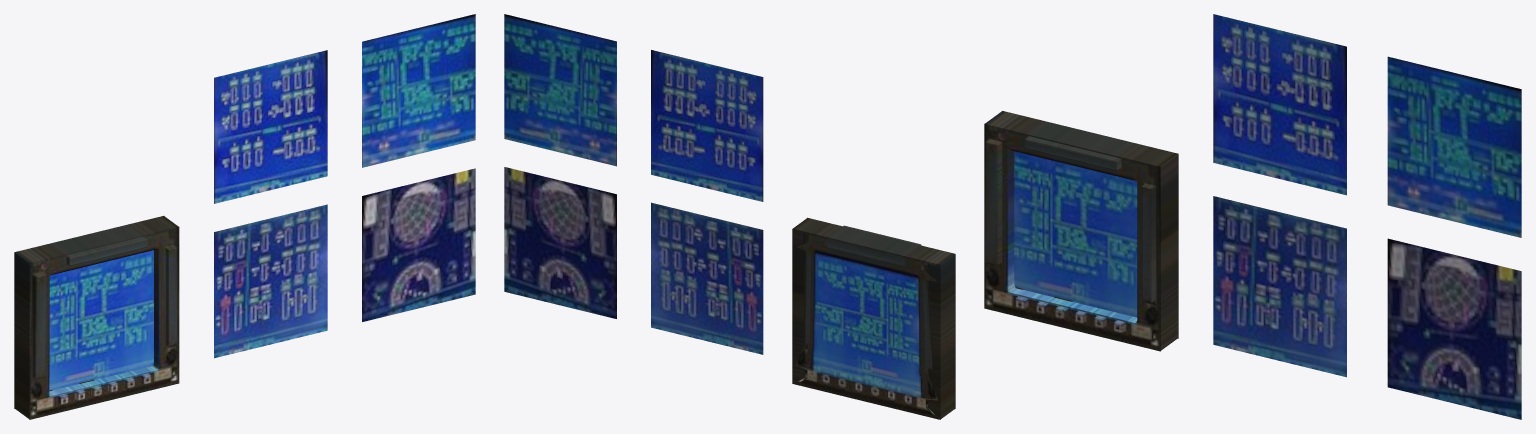
File: SciFiScreenWithLight.fbx
3 views of the same model, side by side, from view 1: azimuth 30°, elevation 25°; view 2: azimuth 150°, elevation 25°; view 3: azimuth 330°, elevation 25° (orthographic). The views are drawn at different scales.
Parts seen in each view (by area): view 1: Frame, Screen.002, Screen.003, Screen.004, Screen.001, Screen; view 2: Frame, Screen.002, Screen.003, Screen.004, Screen.001; view 3: Frame, Screen.003, Screen.002, Screen.001, Screen.004, Screen.
Boxes of the visible parts, x1,y1,x2,y2 form: Frame: (14,216,179,419); Screen.002: (362,168,475,321); Screen.003: (362,14,475,167); Screen.004: (214,50,327,203); Screen.001: (214,204,327,358); Screen: (49,250,153,390); Frame: (792,217,955,419); Screen.002: (504,167,616,318); Screen.003: (504,14,616,166); Screen.004: (651,50,763,201); Screen.001: (651,202,763,354); Frame: (984,111,1178,351); Screen.003: (1387,56,1521,237); Screen.002: (1387,238,1521,419); Screen.001: (1213,196,1346,377); Screen.004: (1213,14,1346,195); Screen: (1014,151,1137,317).
Size of the model in its own units: 602 by 373 by 42.27.
Materials: 6 (6 with a texture image).
